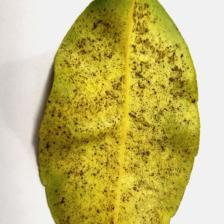canker: (76, 17, 186, 120)
